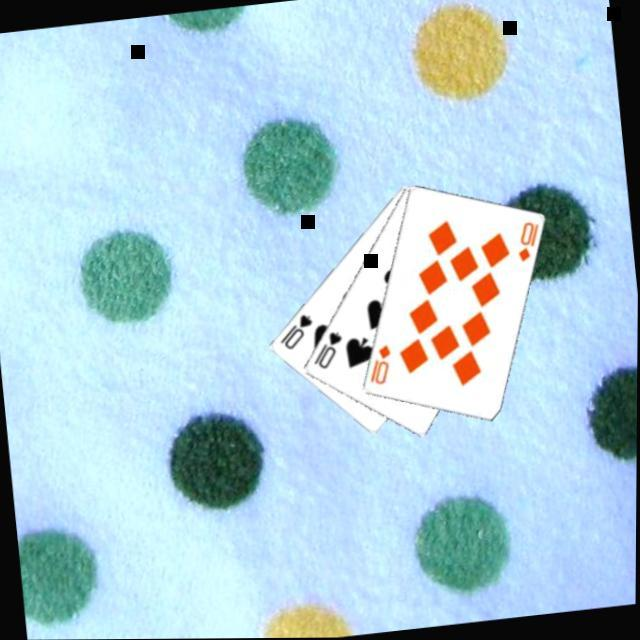10D: (510, 215, 544, 264), (362, 339, 396, 387)
10S: (272, 308, 316, 352), (306, 326, 346, 372)
